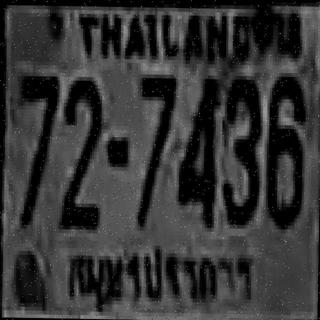N02: (59, 74, 100, 228)
N03: (220, 76, 259, 221)
N04: (176, 73, 216, 222)
N06: (263, 73, 304, 226)
N07: (17, 72, 58, 225), (136, 70, 174, 224)
P57: (58, 236, 257, 320)
